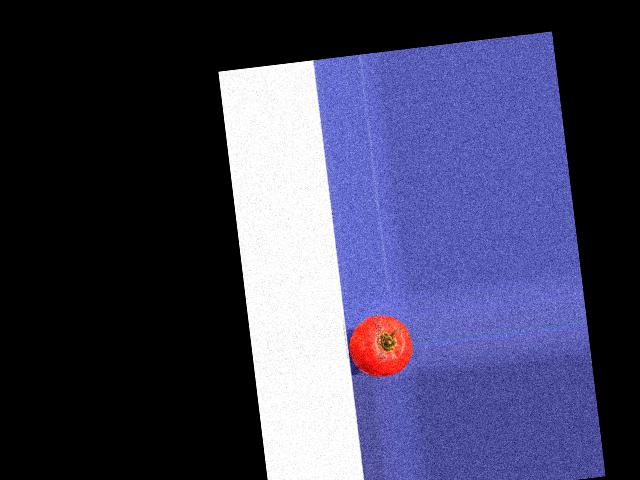tomato: (346, 312, 415, 380)
